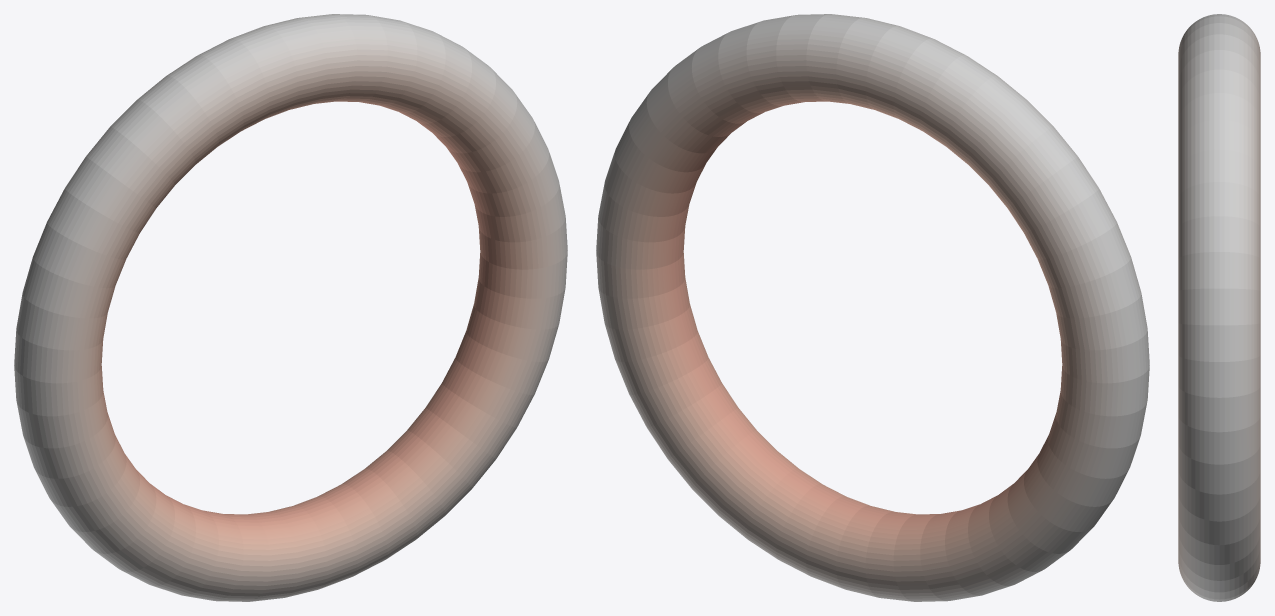
3 views of the same model, side by side, from view 1: azimuth 30°, elevation 25°; view 2: azimuth 150°, elevation 25°; view 3: azimuth 270°, elevation 25° (orthographic). The views are drawn at different scales.
Parts seen in each view (by area): view 1: world; view 2: world; view 3: world.
Boxes of the visible parts, x1,y1,x2,y2 form: world: (14,14,567,601); world: (596,14,1149,601); world: (1178,14,1260,601).
Bounding box in the file's own units: 33.33 × 33.27 × 4.66.
